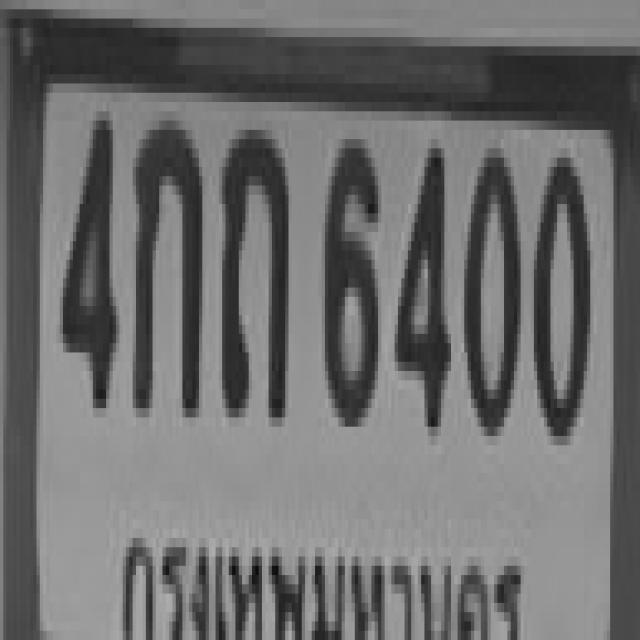0: (531, 148, 587, 436), (461, 139, 517, 427)
10GorGai: (129, 111, 199, 408)
31ThorThung: (219, 120, 285, 418)
4: (391, 139, 448, 427), (59, 102, 112, 399)
6: (322, 130, 374, 417)
Bangkok: (109, 519, 536, 640)
